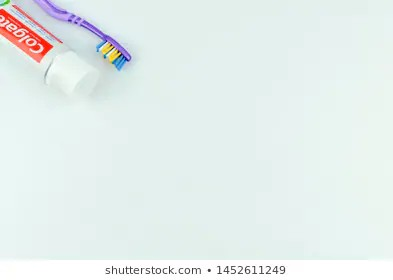toothbrush: (54, 10, 133, 75)
